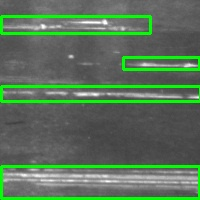scratches: (1, 166, 199, 198), (1, 86, 200, 101), (1, 16, 150, 33), (123, 57, 199, 69)
